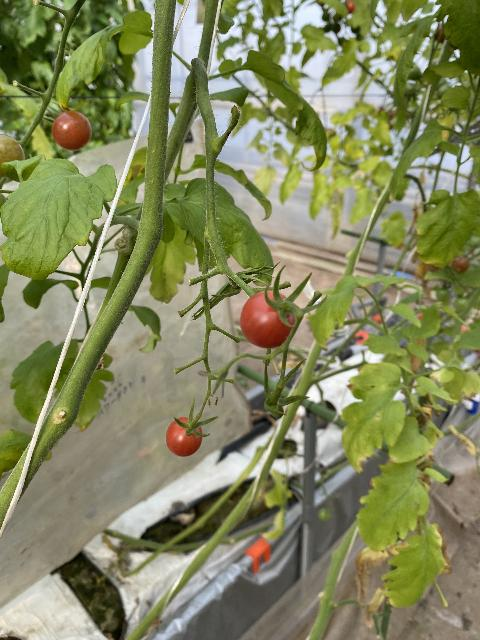l_fully_ripened: (239, 291, 297, 348), (166, 415, 204, 457)
l_half_ripened: (52, 109, 92, 150), (0, 134, 25, 178)
